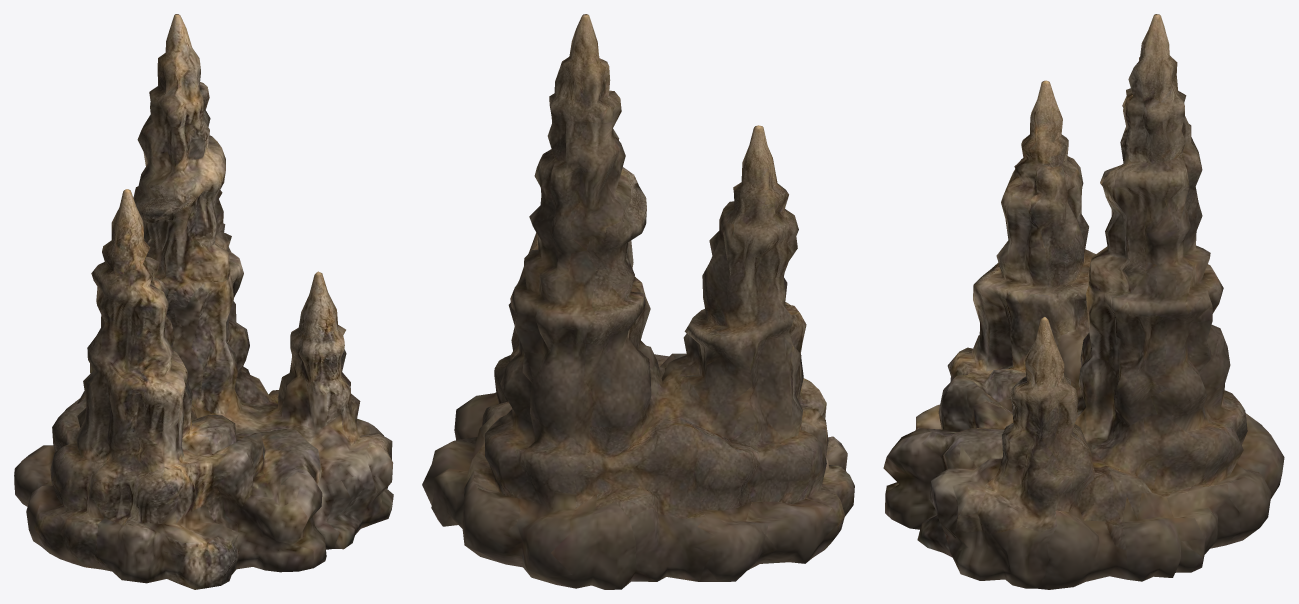
Rendered from p_stalagmite.glb.
3 views of the same model, side by side, from view 1: azimuth 30°, elevation 25°; view 2: azimuth 150°, elevation 25°; view 3: azimuth 270°, elevation 25° (orthographic). The views are drawn at different scales.
Visible parts, largest first — view 1: p_stalagmite; view 2: p_stalagmite; view 3: p_stalagmite.
Part boxes in pixels (x1,y1,x2,y2): p_stalagmite: [14, 14, 393, 589]; p_stalagmite: [422, 14, 854, 589]; p_stalagmite: [883, 14, 1284, 589].
Size of the model in its own units: 0.9001 by 1.18 by 0.8612.
Materials: 1 (1 with a texture image).
